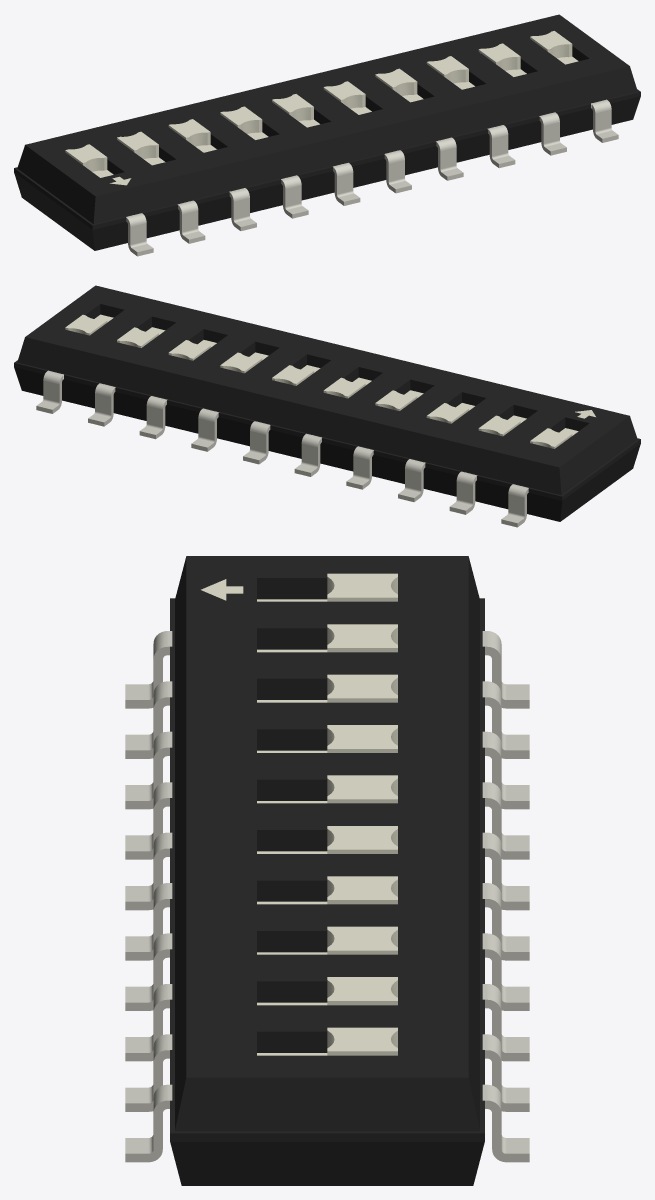
The model's file is kc-sw_dip_spstx10_slide_6.7x26.96mm_w8.61mm_p2.54mm_lowprofile.glb.
3 renders of one model, top to bottom at view 1: azimuth 30°, elevation 25°; view 2: azimuth 150°, elevation 25°; view 3: azimuth 270°, elevation 25°, orthographic. The views are drawn at different scales.
Parts seen in each view (by area): view 1: 0_0_0_0, 0.75_0.75_0.6666666666666666_0, 0.6666666666666666_0.6666666666666666_0.5833333333333334_0.8; view 2: 0_0_0_0, 0.6666666666666666_0.6666666666666666_0.5833333333333334_0.8, 0.75_0.75_0.6666666666666666_0; view 3: 0_0_0_0, 0.6666666666666666_0.6666666666666666_0.5833333333333334_0.8, 0.75_0.75_0.6666666666666666_0.
Boxes of the visible parts, bbox=[...] form: 0_0_0_0: bbox=[14, 14, 640, 250]; 0.75_0.75_0.6666666666666666_0: bbox=[65, 31, 578, 185]; 0.6666666666666666_0.6666666666666666_0.5833333333333334_0.8: bbox=[126, 99, 618, 256]; 0_0_0_0: bbox=[14, 285, 640, 521]; 0.6666666666666666_0.6666666666666666_0.5833333333333334_0.8: bbox=[36, 370, 528, 527]; 0.75_0.75_0.6666666666666666_0: bbox=[65, 314, 595, 448]; 0_0_0_0: bbox=[170, 556, 484, 1185]; 0.6666666666666666_0.6666666666666666_0.5833333333333334_0.8: bbox=[125, 631, 529, 1162]; 0.75_0.75_0.6666666666666666_0: bbox=[201, 573, 397, 1055].
Size of the model in its own units: 2.7 by 0.27 by 0.8611.
